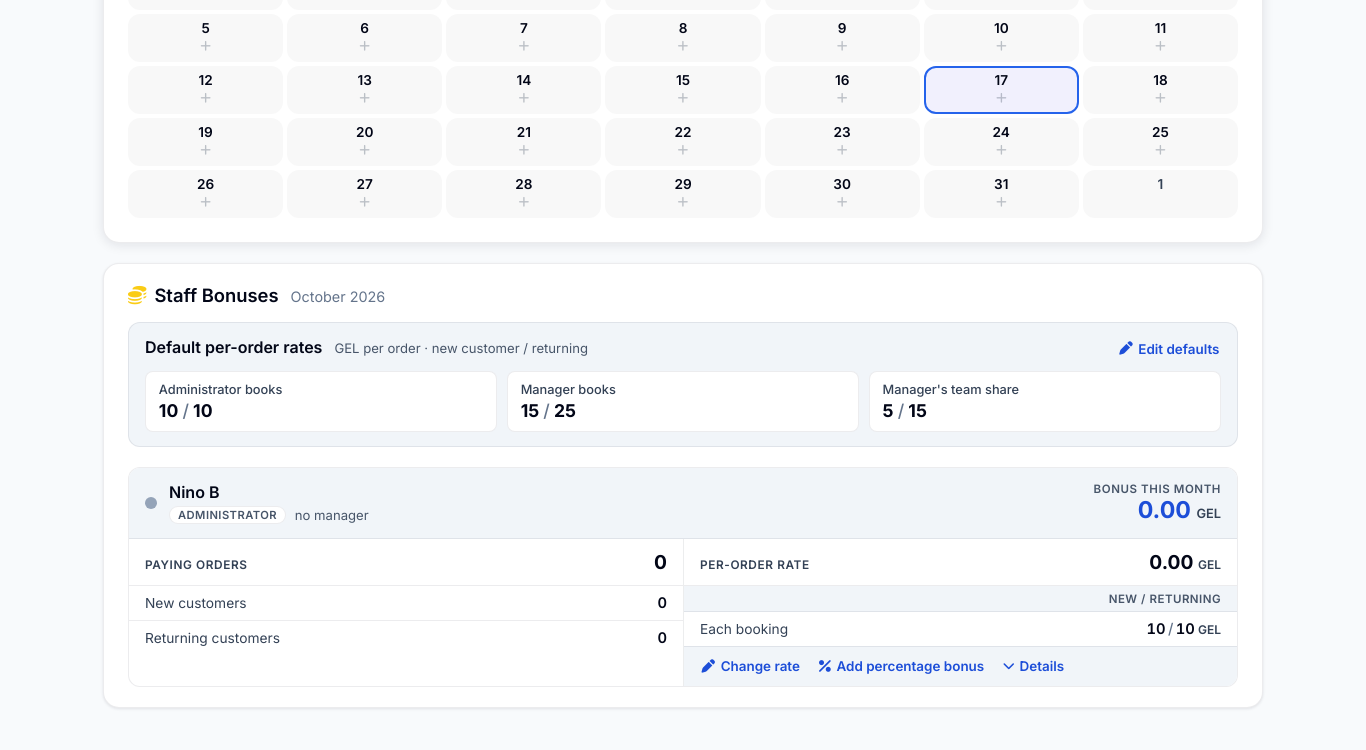
Scenario: ShiftsComponent › one admin's orders › shows the server's refusal, and the same button folds the list away
(page scrolled)
Click the button with class "bonus-details-btn": x=1034, y=666 x1=1002 y1=655 x2=1066 y2=678
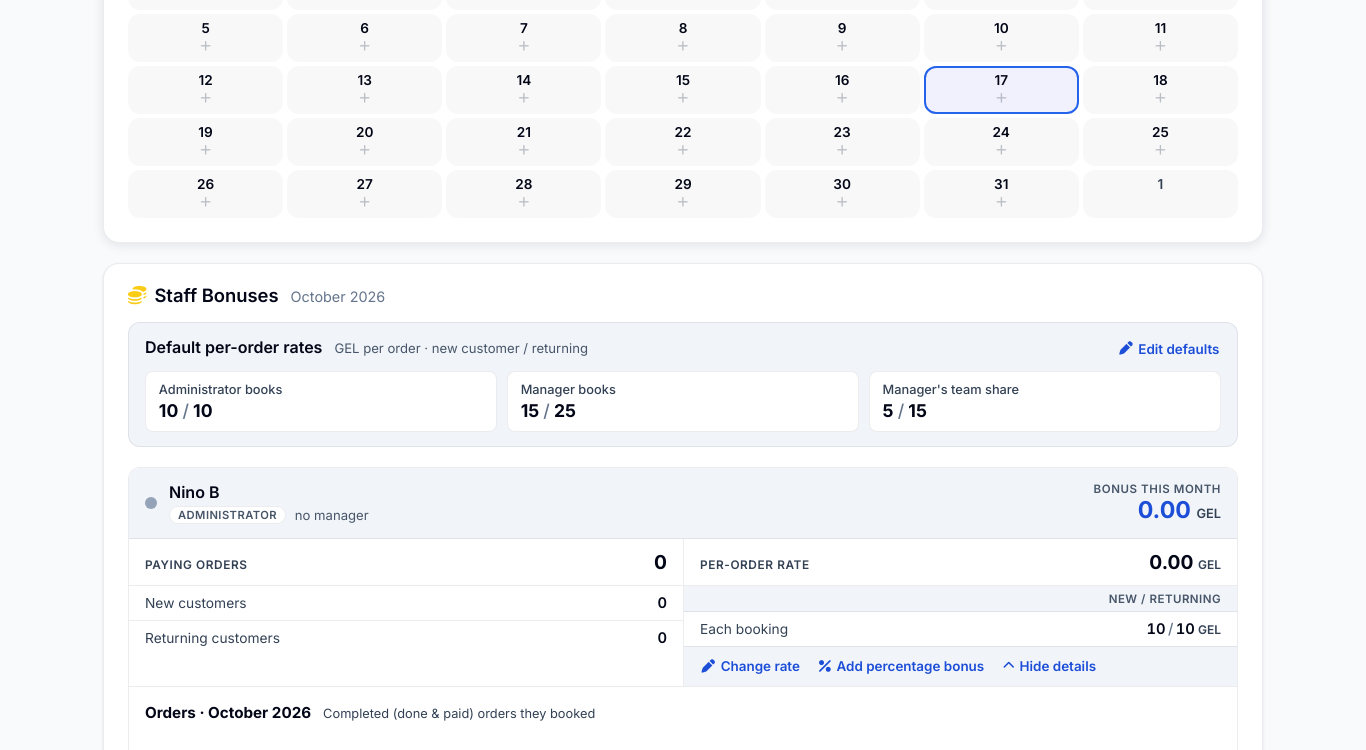
Expected: the button with class "bonus-details-btn" is expanded
Expected: the button with class "bonus-details-btn" reads "Hide details"
Click the button with class "bonus-details-btn": x=1050, y=666 x1=1002 y1=655 x2=1098 y2=678
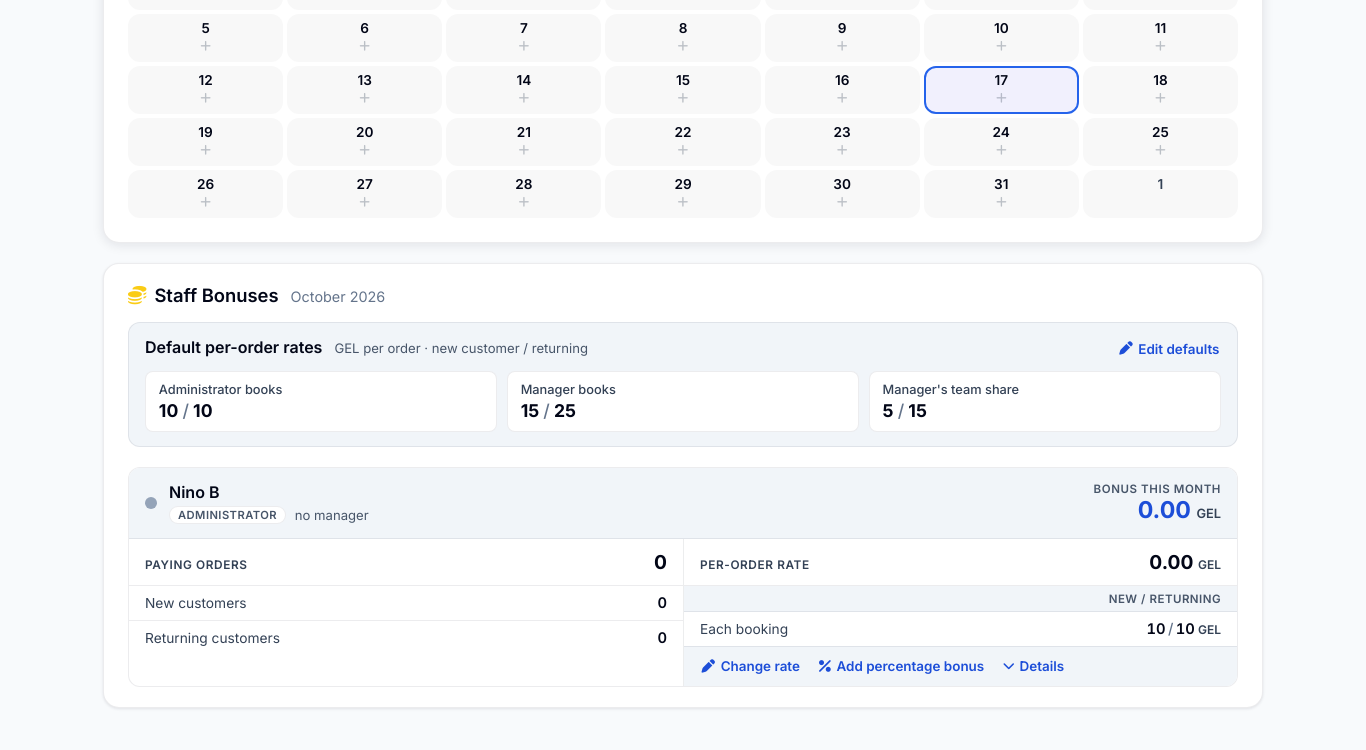
Expected: the button with class "bonus-details-btn" is collapsed, x1=1002 y1=655 x2=1066 y2=678
